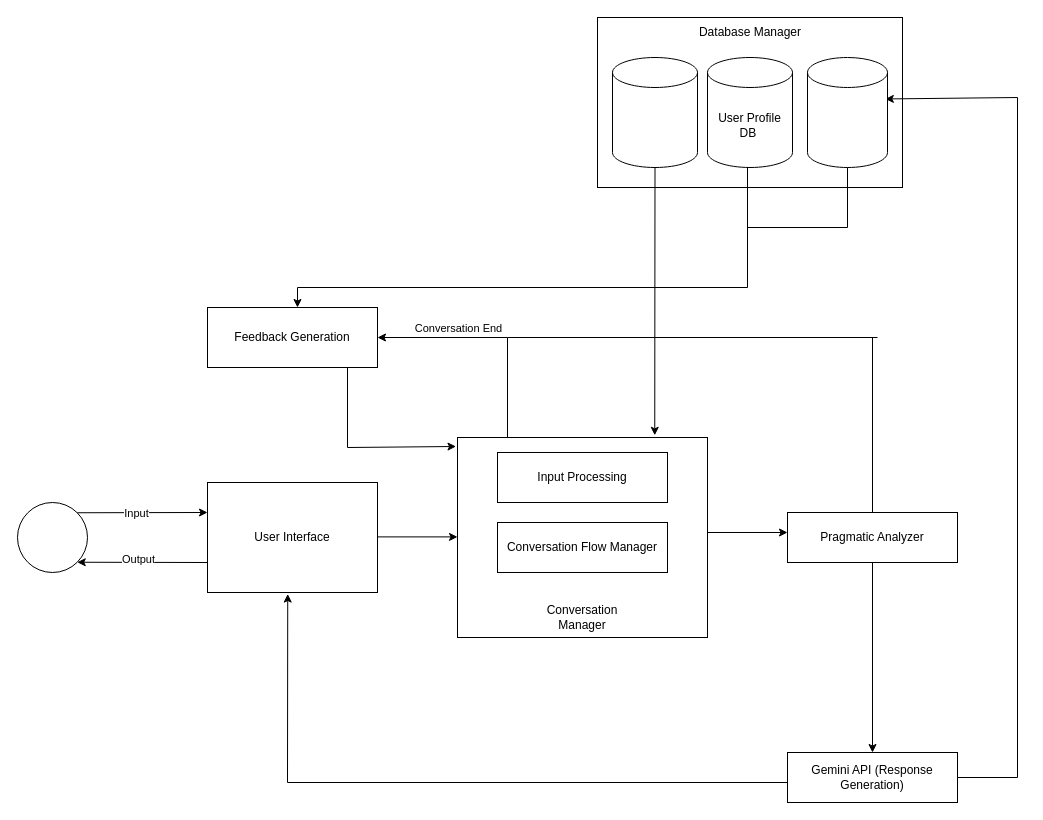
The diagram is 1043 pixels wide and 820 high, and some of its shapes have lost their labels. The centre of each missing label's shape, as x and y in pixels:
Conversation Log DB: the point at 847,112
Scenario DB: the point at 655,112
User: the point at 52,537
